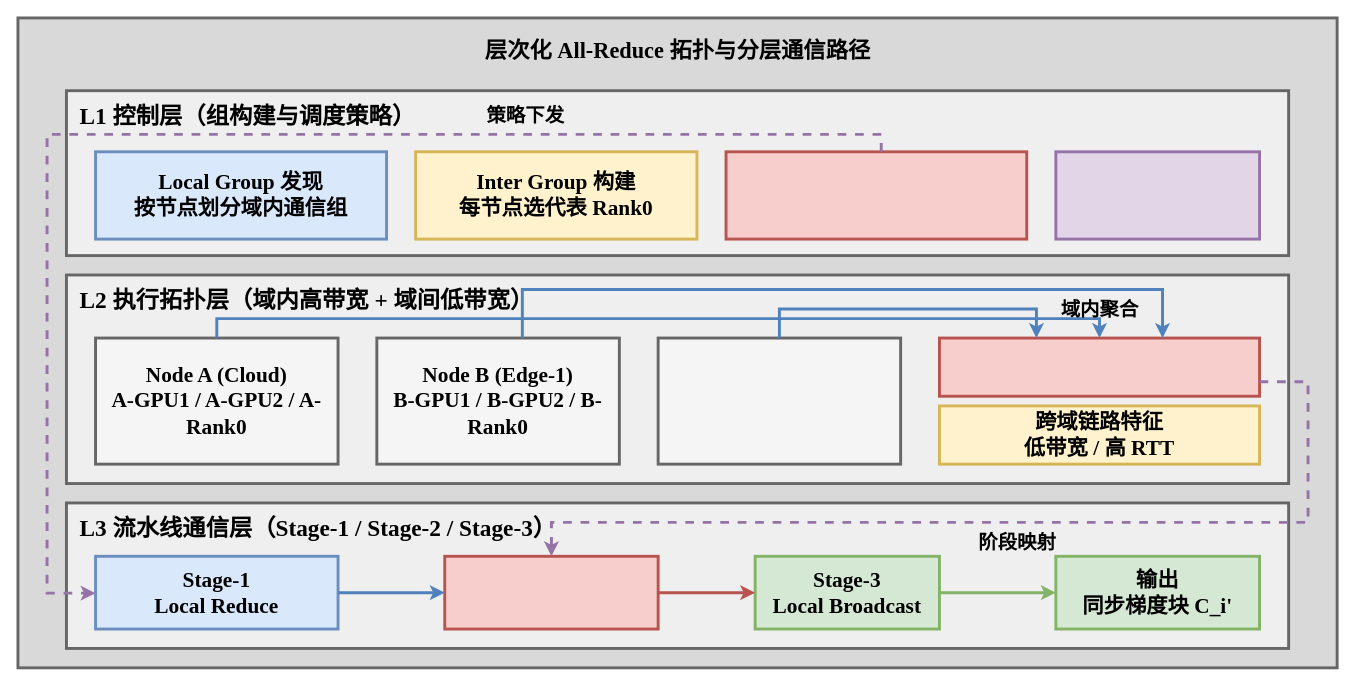
Some shapes in this 1355 by 686 pixel diagram are drawn without their labels. Here are the shapes that lost their labels. From the top down, the centre of each, then its label:
At (876,195): "流水线调度器 chunk 切分 + 双流 + event 依赖".
At (1157,195): "运行参数 chunk_size".
At (1099,366): "Inter Group Ring/Tree A-Rank0 ↔ B-Rank0 ↔ C-Rank0".
At (779,400): "Node C (Edge-2) C-GPU1 / C-GPU2 / C-Rank0".
At (551,592): "Stage-2 Inter Reduce".
